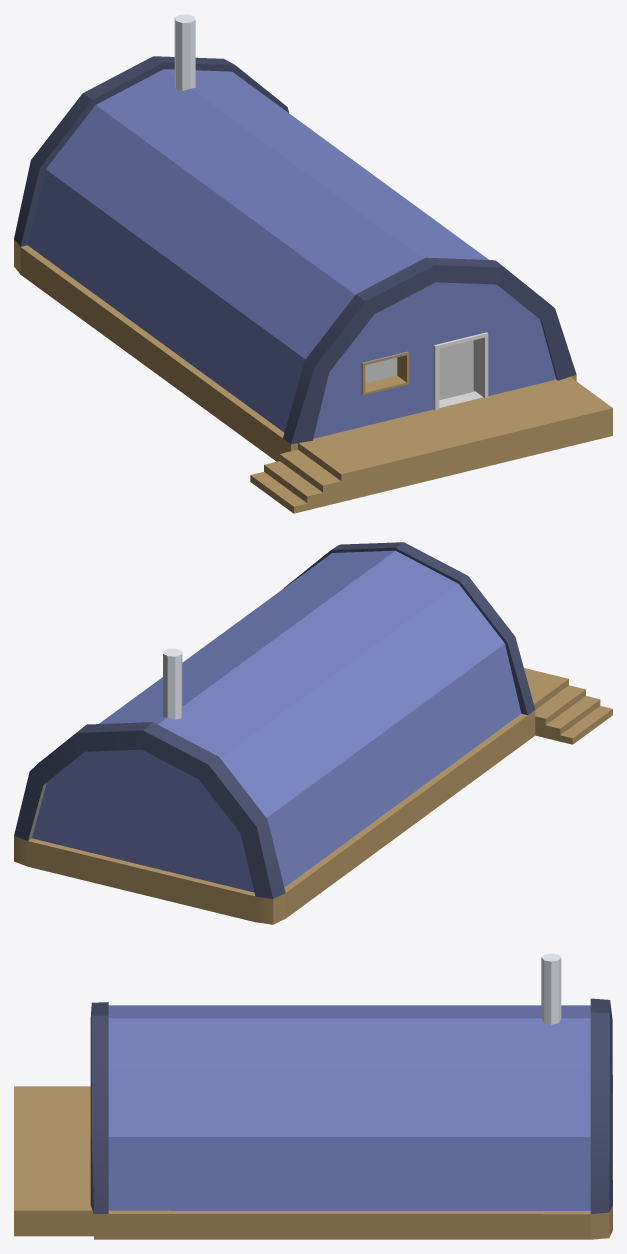
3 views of the same model, one above another, from view 1: azimuth 30°, elevation 25°; view 2: azimuth 150°, elevation 25°; view 3: azimuth 270°, elevation 25° (orthographic). The views are drawn at different scales.
Visible parts, largest first — view 1: Base; view 2: Base; view 3: Base.
Boxes of the visible parts, bbox=[...] form: Base: bbox=[14, 14, 612, 513]; Base: bbox=[14, 542, 612, 924]; Base: bbox=[14, 953, 612, 1239].
Size of the model in its own units: 1304 by 903 by 2250.
